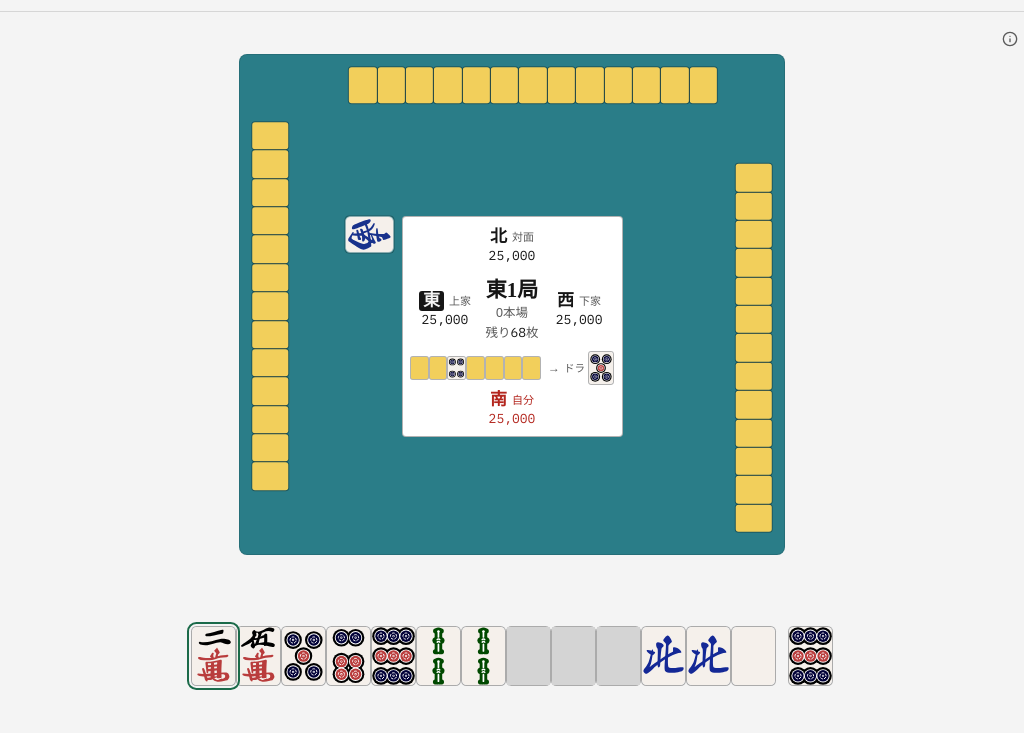
U-34 タブは、その場面に関係があるときだけ出る（他家の手牌のタブは無い。R16-7） › 聴牌にならず、リーチも副露の気配も無い場面は、タブの並びを出さない（他家の手牌のタブは無い）。受け入れ枚数の欄と役の欄が、そのまま並ぶ
This screenshot has width=1024, height=733.
Click the button named "を切る": (214, 656) [192,628,235,685]
(page scrolled)
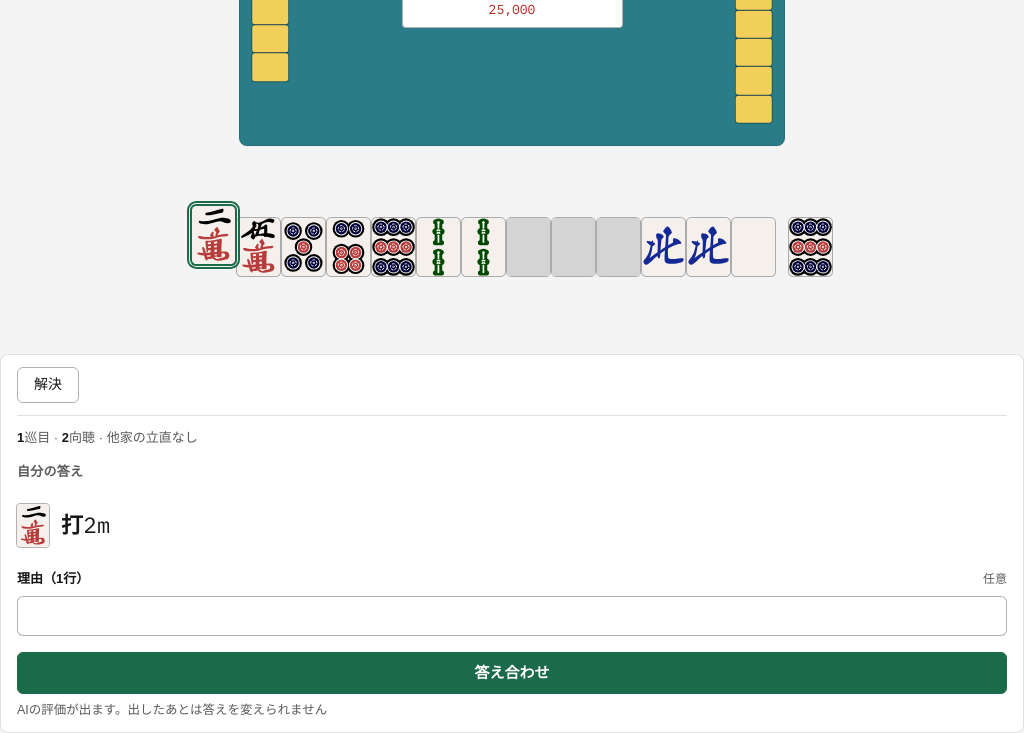
In the field labelled "理由（1行）": (512, 616) [17,596,1007,636], type "待ちを見て選んだ"
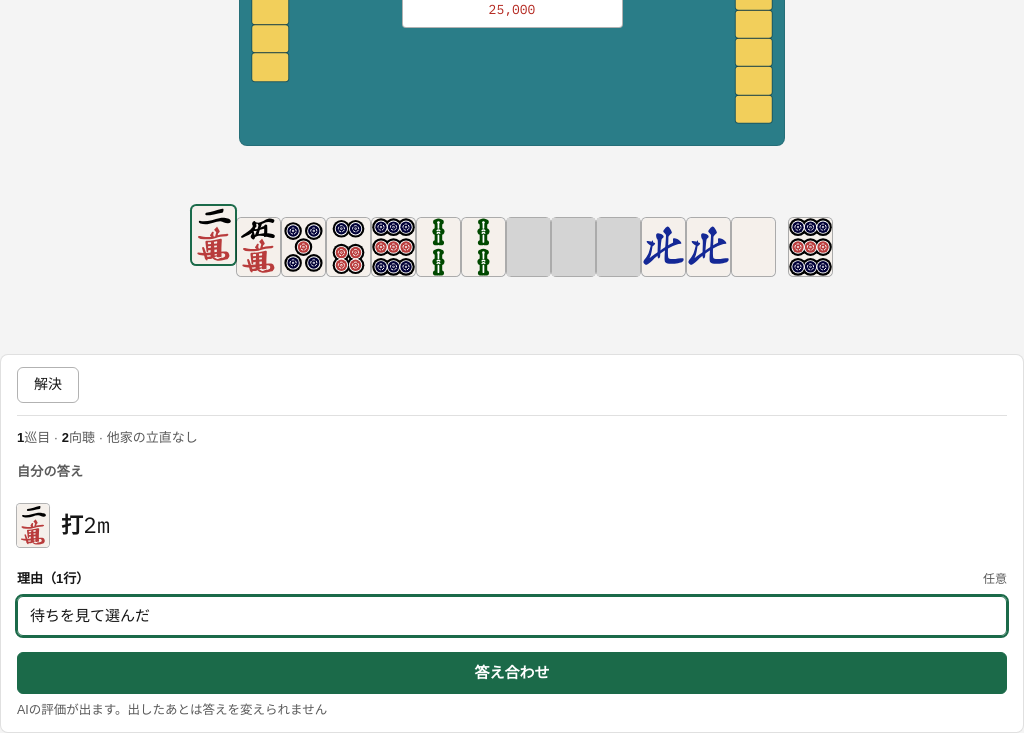
Click the button "答え合わせ": (512, 673) [17,652,1007,694]
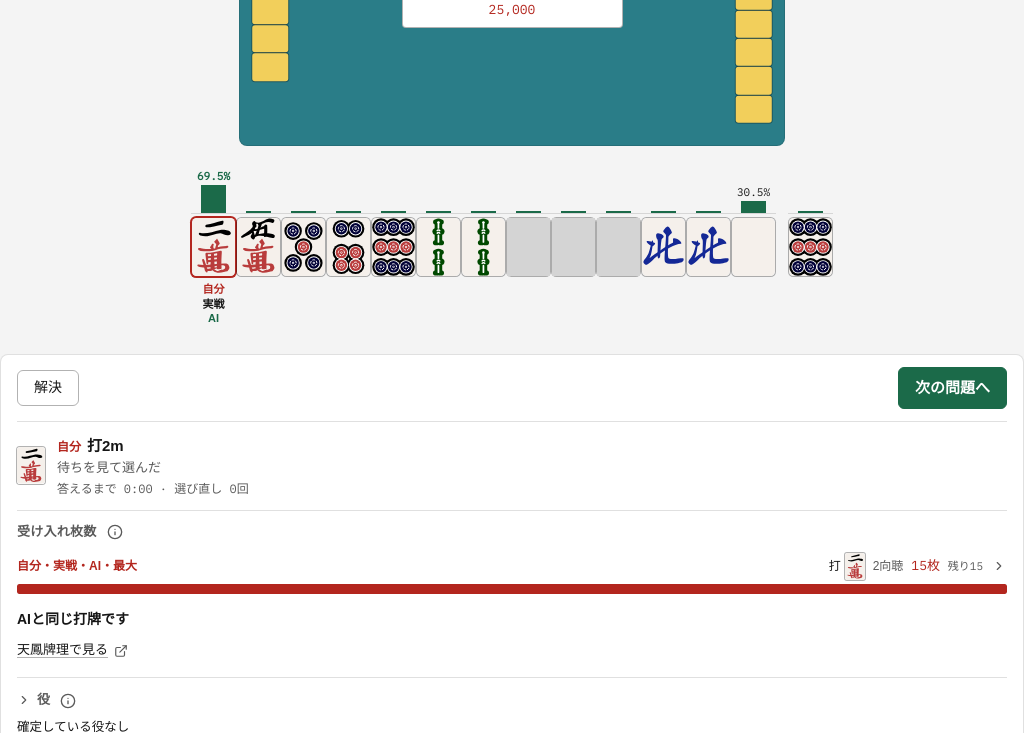
Expected: the heading "受け入れ枚数" is shown, [17,523,97,541]
Expected: the heading "役" is shown, [17,690,50,712]
